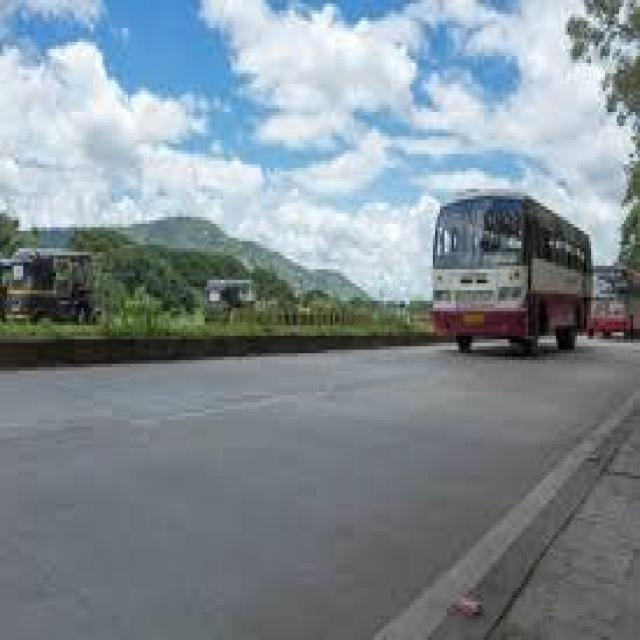bus: (428, 176, 600, 358), (594, 255, 639, 350)
